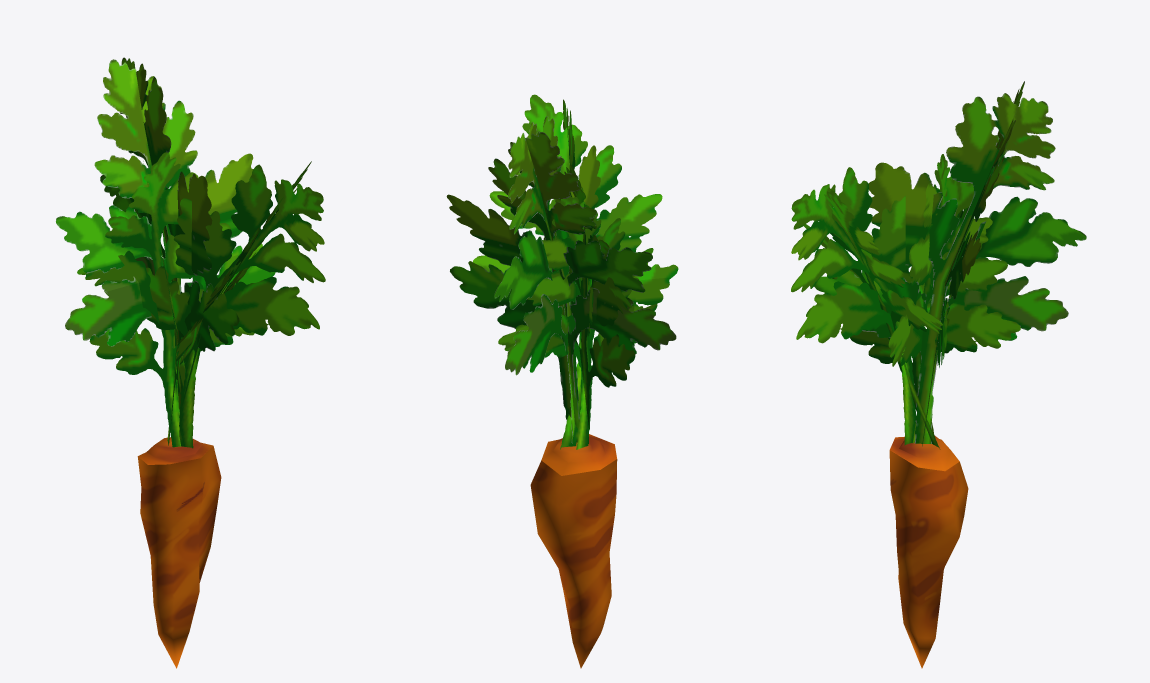
File: Carrot_01.fbx
3 renders of one model, left to right at view 1: azimuth 30°, elevation 25°; view 2: azimuth 150°, elevation 25°; view 3: azimuth 270°, elevation 25°, orthographic.
Visible parts, largest first — view 1: Carrot_01; view 2: Carrot_01; view 3: Carrot_01.
Boxes of the visible parts, x1=… form: Carrot_01: x1=56, y1=57, x2=325, y2=668; Carrot_01: x1=446, y1=94, x2=678, y2=668; Carrot_01: x1=791, y1=81, x2=1086, y2=668.
Size of the model in its own units: 64.51 by 151 by 82.38.
